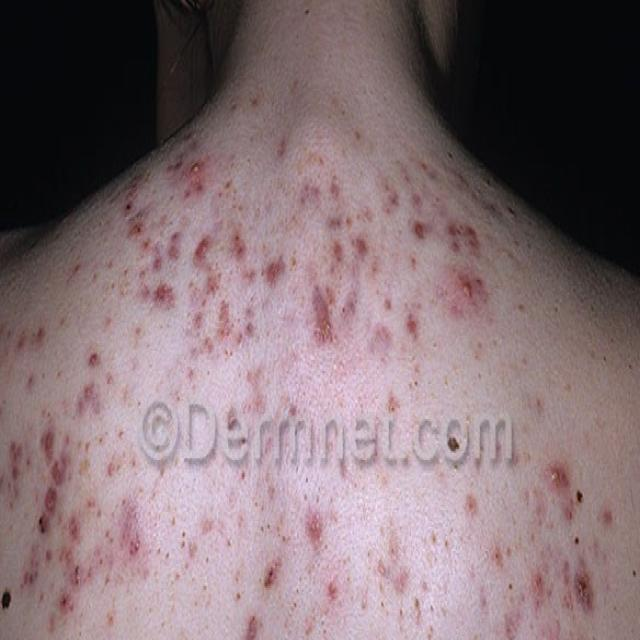Acne: (121, 165, 233, 327), (367, 179, 483, 320), (528, 452, 613, 640), (203, 377, 336, 490), (29, 312, 130, 417), (439, 510, 507, 640), (118, 486, 179, 622), (293, 269, 346, 367), (34, 420, 69, 558), (47, 566, 80, 631), (252, 552, 282, 611), (236, 617, 267, 640)
